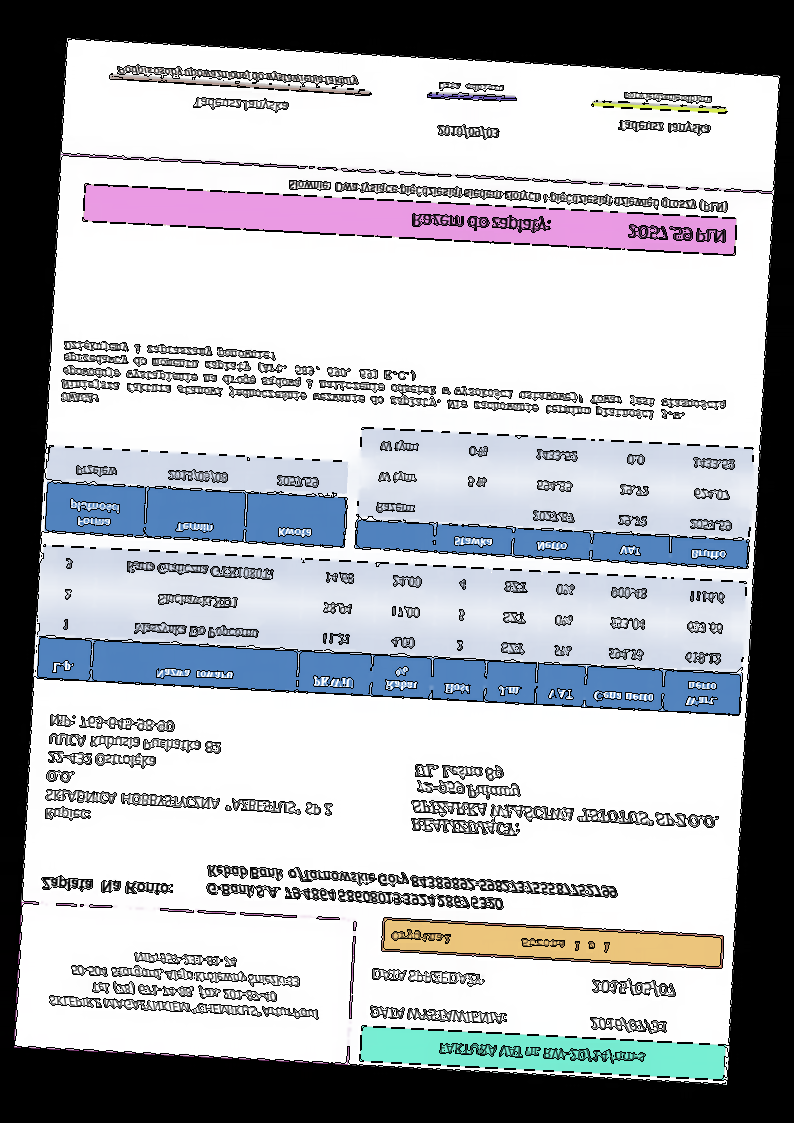Table: (35, 543, 748, 717), (353, 426, 755, 570), (42, 444, 350, 549)
TextBox: (59, 337, 732, 441), (41, 712, 339, 838), (406, 758, 724, 850), (203, 861, 620, 921), (44, 943, 324, 1027), (285, 175, 730, 217), (408, 209, 730, 250), (113, 61, 361, 93), (435, 1036, 647, 1072), (389, 926, 614, 957), (367, 1003, 510, 1030), (39, 874, 175, 900), (368, 963, 487, 992), (616, 116, 714, 141), (588, 975, 680, 1001), (191, 94, 291, 117), (586, 1014, 669, 1038), (622, 88, 714, 106), (434, 122, 501, 144), (436, 78, 506, 96)
